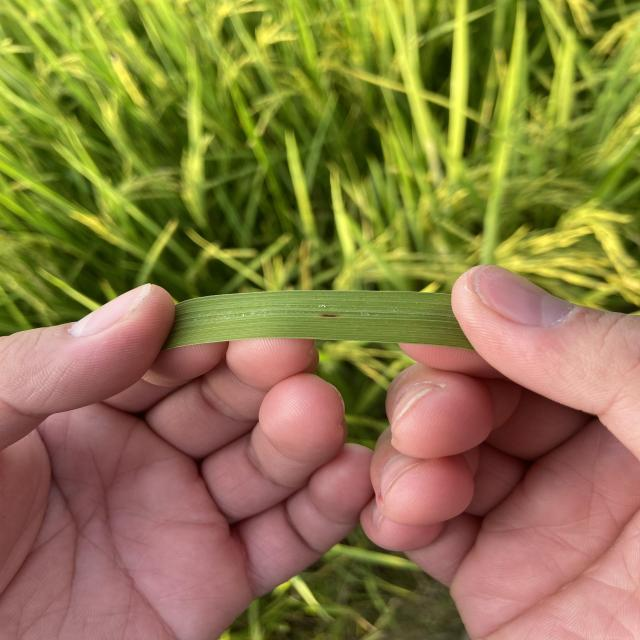Dom nau: (318, 314, 342, 317)
